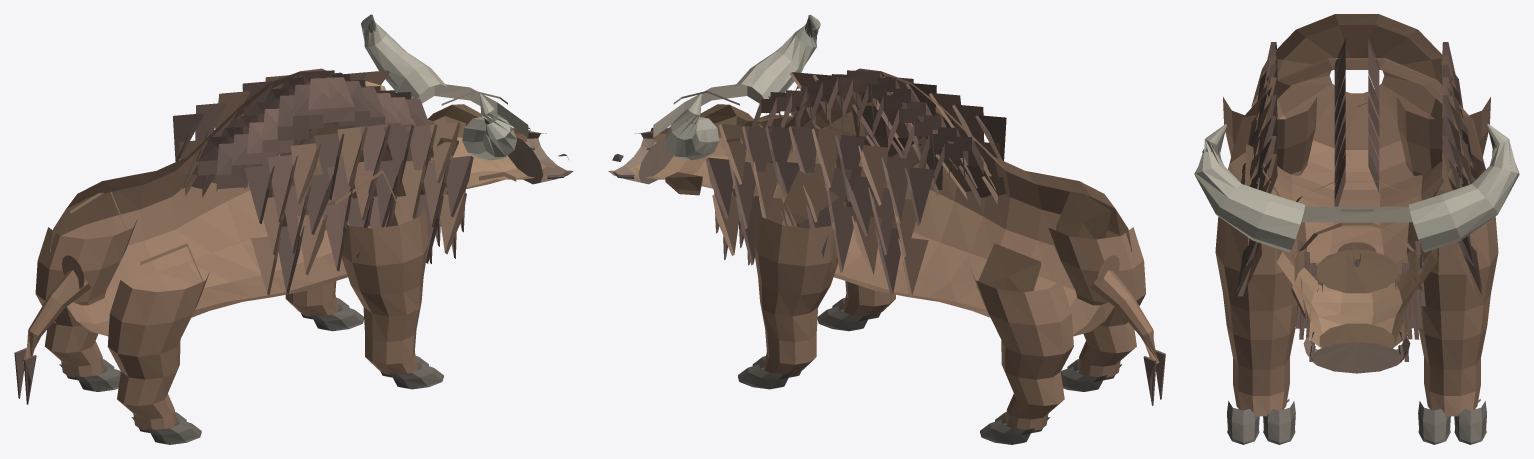
The model's file is torvardo-v03-anatomy-blockout.glb.
3 views of the same model, side by side, from view 1: azimuth 30°, elevation 25°; view 2: azimuth 150°, elevation 25°; view 3: azimuth 270°, elevation 25° (orthographic). The views are drawn at different scales.
Visible parts, largest first — view 1: Torvardo_Faceted_Anatomy_v03; view 2: Torvardo_Faceted_Anatomy_v03; view 3: Torvardo_Faceted_Anatomy_v03.
Part boxes in pixels (x1,y1,x2,y2): Torvardo_Faceted_Anatomy_v03: (14,14,573,444); Torvardo_Faceted_Anatomy_v03: (608,14,1165,444); Torvardo_Faceted_Anatomy_v03: (1194,14,1519,444).
Bounding box in the file's own units: 6.01 × 3.09 × 2.62.
